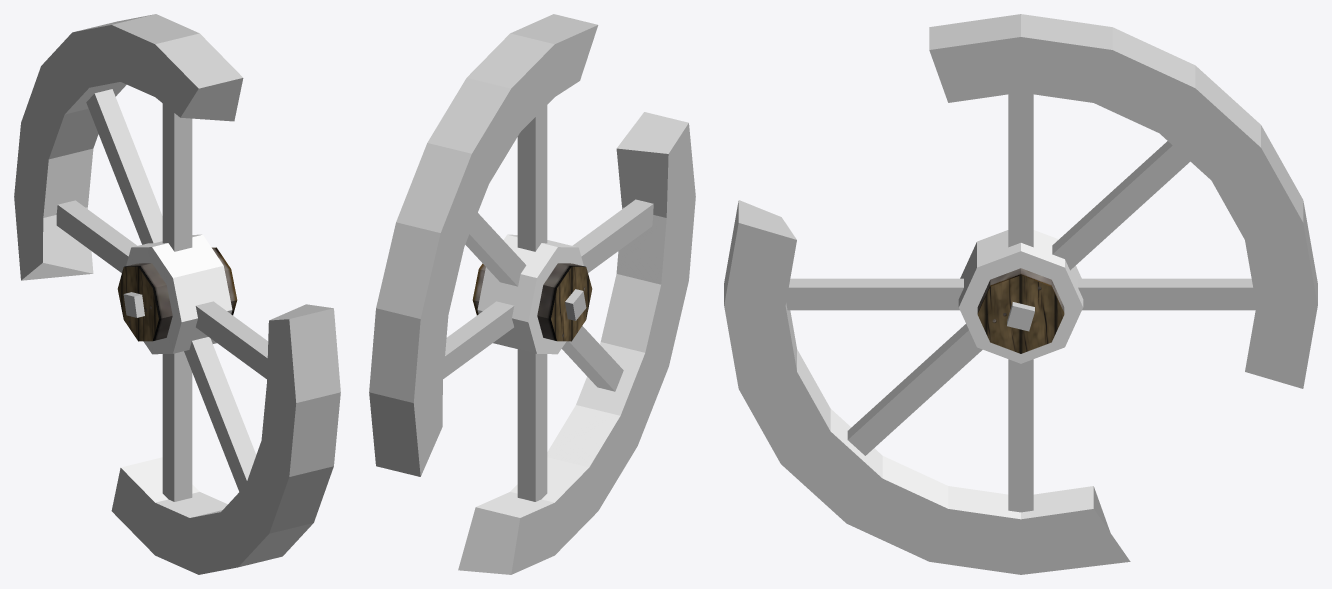
Rendered from adv2_broken_wheel.fbx.
3 renders of one model, left to right at view 1: azimuth 30°, elevation 25°; view 2: azimuth 150°, elevation 25°; view 3: azimuth 270°, elevation 25°, orthographic. The views are drawn at different scales.
Parts seen in each view (by area): view 1: Default_Layer; view 2: Default_Layer; view 3: Default_Layer.
Part boxes in pixels (box(x1,y1,x2,y2)): Default_Layer: box(14, 14, 340, 574); Default_Layer: box(369, 14, 695, 574); Default_Layer: box(724, 14, 1317, 574).
Bounding box in the file's own units: 25.68 × 133 × 133.
